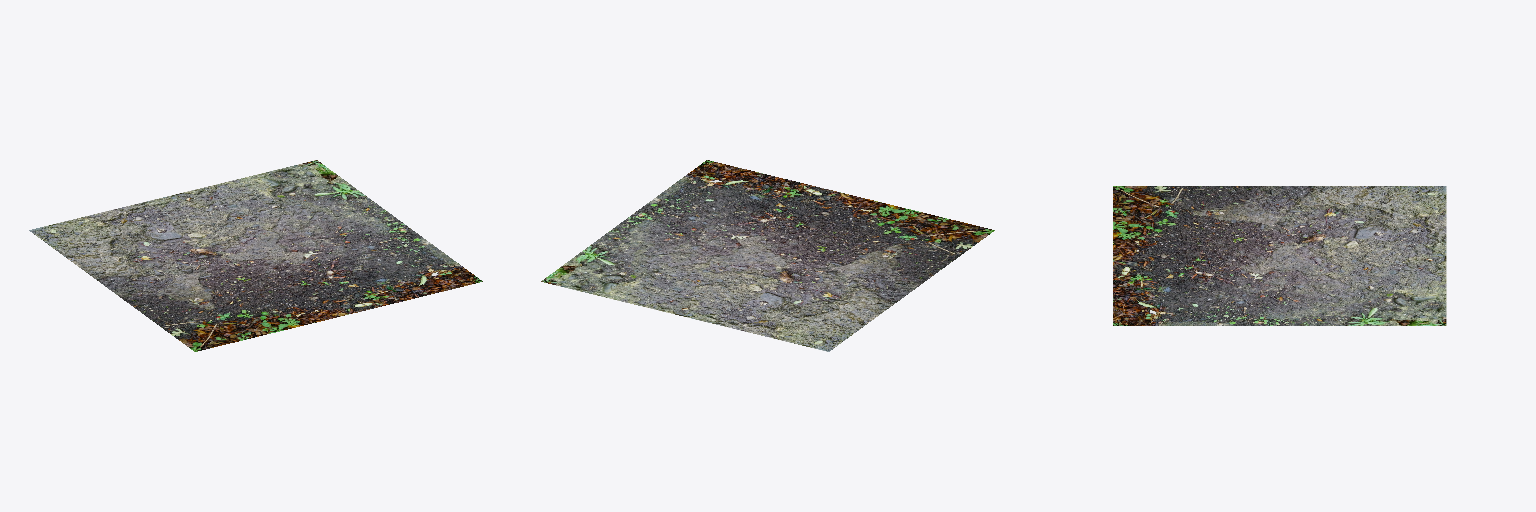
The picture shows the model from 3 angles: view 1: azimuth 30°, elevation 25°; view 2: azimuth 150°, elevation 25°; view 3: azimuth 270°, elevation 25°; orthographic projection.
Parts seen in each view (by area): view 1: Plane; view 2: Plane; view 3: Plane.
Part boxes in pixels (x1,y1,x2,y2): Plane: (29, 160, 482, 351); Plane: (541, 160, 994, 351); Plane: (1113, 186, 1446, 325).
Size of the model in its own units: 1 by 0 by 1.
Materials: 1 (1 with a texture image).